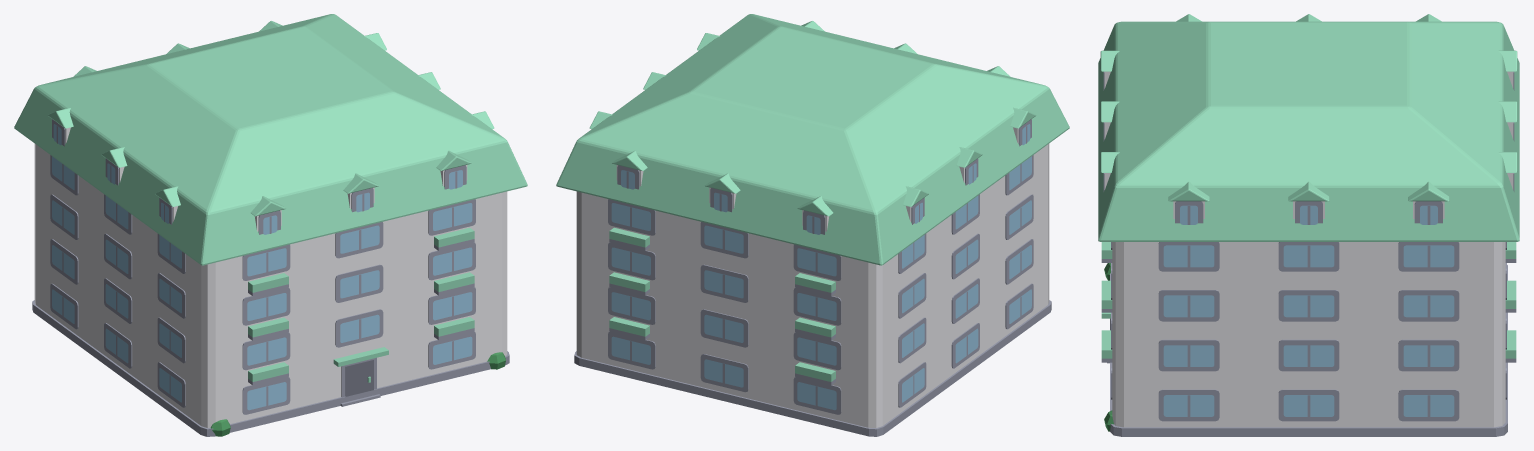
Rendered from house-2x2-4f-tone-a.glb.
3 renders of one model, left to right at view 1: azimuth 30°, elevation 25°; view 2: azimuth 150°, elevation 25°; view 3: azimuth 270°, elevation 25°, orthographic. The views are drawn at different scales.
Visible parts, largest first — view 1: house-2x2-4f-tone-a; view 2: house-2x2-4f-tone-a; view 3: house-2x2-4f-tone-a.
Part boxes in pixels (left/top/right/bottom): house-2x2-4f-tone-a: left=14, top=14, right=527, bottom=436; house-2x2-4f-tone-a: left=556, top=14, right=1069, bottom=436; house-2x2-4f-tone-a: left=1098, top=14, right=1519, bottom=436.
Size of the model in its own units: 1.99 by 1.51 by 1.99.
Materials: 1 (1 with a texture image).
